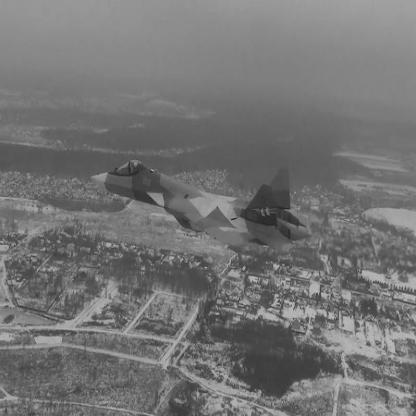Su57: (91, 160, 313, 254)
